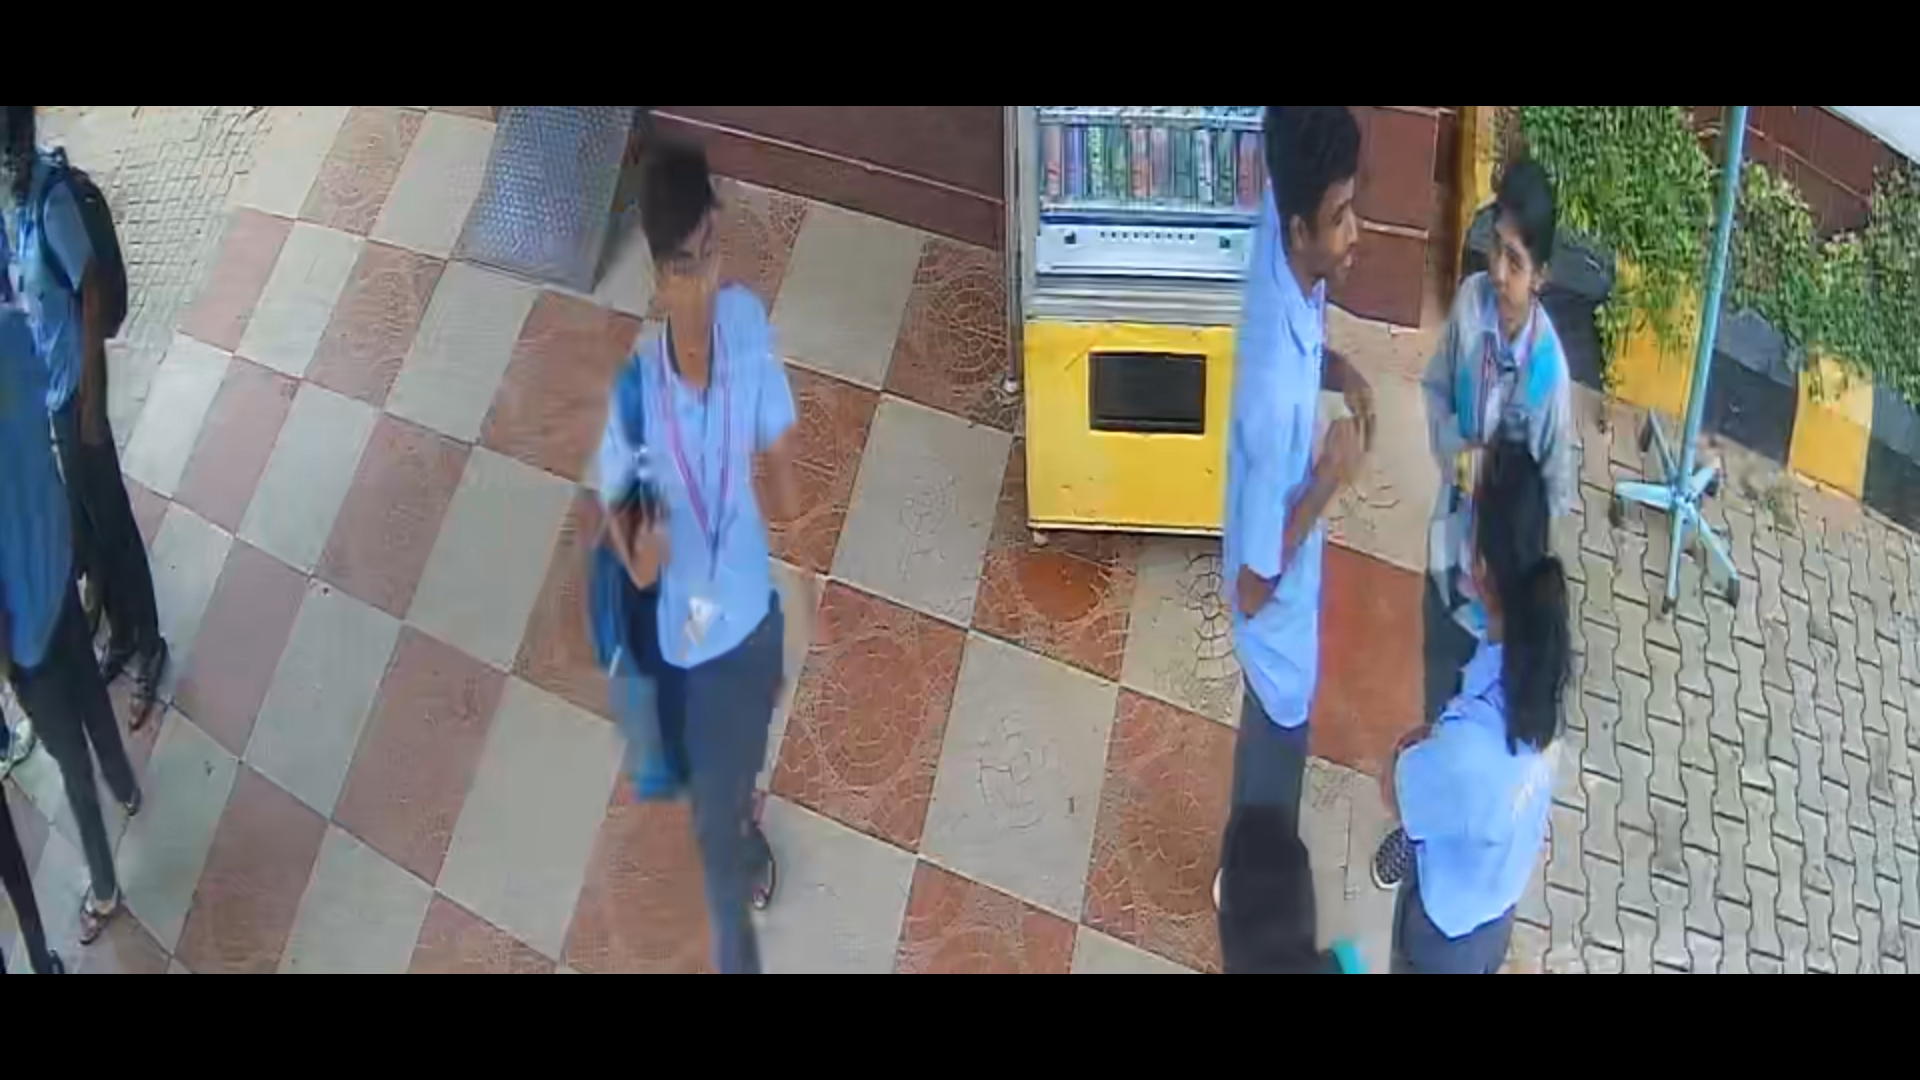not intruder: (556, 150, 852, 972)
